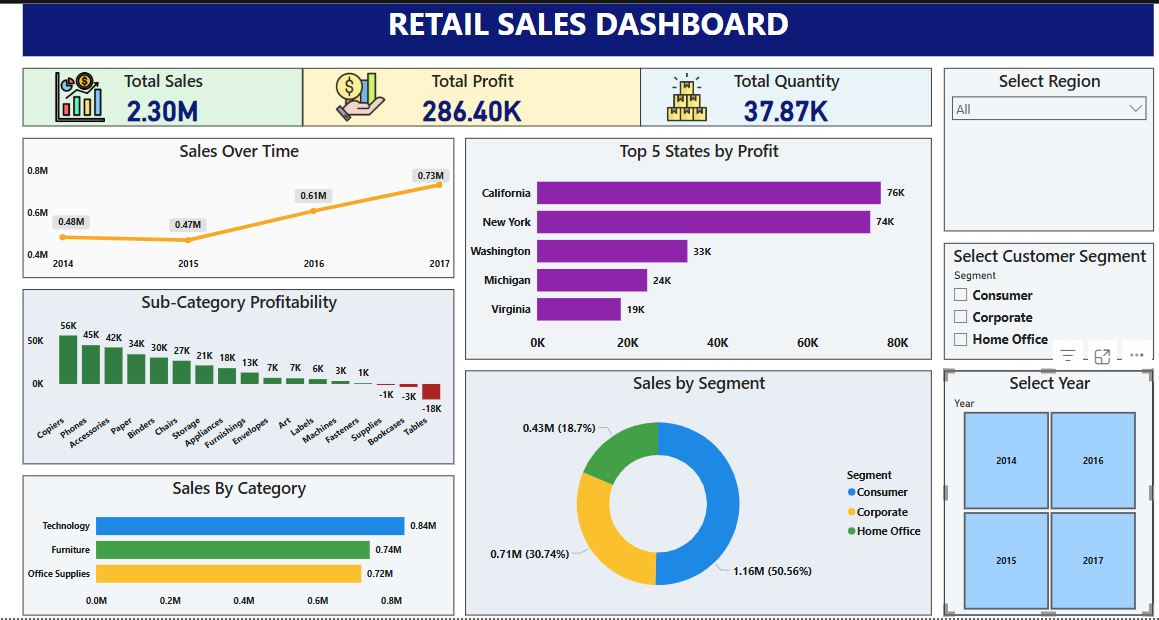

What the dashboard file says about the page in this screenshot:
{"tool":"powerbi","page":{"name":"Page 1","canvas":[1600,900],"ordinal":0},"visuals":[{"type":"card","title":"Total Sales","fields":{"Values":["Sum(cleaned_superstore.Sales)"]},"box":[32,144,384,80],"z":0},{"type":"card","title":"Total Profit","fields":{"Values":["Sum(cleaned_superstore.Profit)"]},"box":[416,144,464,80],"z":1},{"type":"card","title":"Total Quantity","fields":{"Values":["Sum(cleaned_superstore.Quantity)"]},"box":[880,144,400,80],"z":2},{"type":"textbox","box":[32,48,1552,80],"z":3},{"type":"lineChart","title":"Sales Over Time","fields":{"Category":["cleaned_superstore.Order Date.Variation.Date Hierarchy.Year","cleaned_superstore.Order Date.Variation.Date Hierarchy.Quarter","cleaned_superstore.Order Date.Variation.Date Hierarchy.Month","cleaned_superstore.Order Date.Variation.Date Hierarchy.Day"],"Y":["Sum(cleaned_superstore.Sales)"]},"box":[32,240,592,192],"z":4},{"type":"clusteredBarChart","title":"Sales By Category","fields":{"Category":["cleaned_superstore.Category"],"Y":["Sum(cleaned_superstore.Sales)"]},"box":[32,704,592,192],"z":5},{"type":"clusteredColumnChart","title":"Sub-Category Profitability","fields":{"Category":["cleaned_superstore.Sub-Category"],"Y":["Sum(cleaned_superstore.Profit)"]},"box":[32,448,592,240],"z":6},{"type":"clusteredBarChart","title":"Top 5 States by Profit","fields":{"Category":["cleaned_superstore.State"],"Y":["Sum(cleaned_superstore.Profit)"]},"box":[640,240,640,304],"z":7},{"type":"donutChart","title":"Sales by Segment","fields":{"Y":["Sum(cleaned_superstore.Sales)"],"Category":["cleaned_superstore.Segment"]},"box":[640,560,640,336],"z":8},{"type":"slicer","title":"Select Region","fields":{"Values":["cleaned_superstore.Region"]},"box":[1296,144,288,224],"z":9},{"type":"slicer","title":"Select Customer Segment","fields":{"Values":["cleaned_superstore.Segment"]},"box":[1296,384,288,160],"z":10},{"type":"slicer","title":"Select Year","fields":{"Values":["cleaned_superstore.Year"]},"box":[1296,560,288,336],"z":11},{"type":"image","box":[64,144,96,80],"z":12},{"type":"image","box":[432,144,128,80],"z":13},{"type":"image","box":[880,144,128,80],"z":14}]}

Visuals, with their boxes in screenshot pixels (x1, y1, x2, y2):
"Total Sales" card: [x1=20, y1=63, x2=300, y2=121]
"Total Profit" card: [x1=300, y1=63, x2=638, y2=121]
"Total Quantity" card: [x1=638, y1=63, x2=930, y2=121]
textbox: [x1=20, y1=0, x2=1151, y2=51]
"Sales Over Time" lineChart: [x1=20, y1=133, x2=452, y2=273]
"Sales By Category" clusteredBarChart: [x1=20, y1=471, x2=452, y2=611]
"Sub-Category Profitability" clusteredColumnChart: [x1=20, y1=284, x2=452, y2=459]
"Top 5 States by Profit" clusteredBarChart: [x1=463, y1=133, x2=930, y2=354]
"Sales by Segment" donutChart: [x1=463, y1=366, x2=930, y2=611]
"Select Region" slicer: [x1=941, y1=63, x2=1151, y2=226]
"Select Customer Segment" slicer: [x1=941, y1=238, x2=1151, y2=354]
"Select Year" slicer: [x1=941, y1=366, x2=1151, y2=611]
image: [x1=44, y1=63, x2=114, y2=121]
image: [x1=312, y1=63, x2=405, y2=121]
image: [x1=638, y1=63, x2=732, y2=121]
